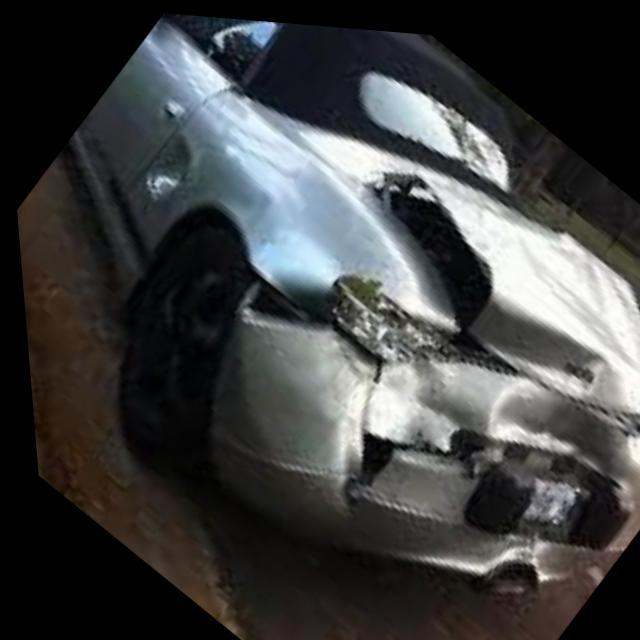crash: (187, 169, 640, 589)
